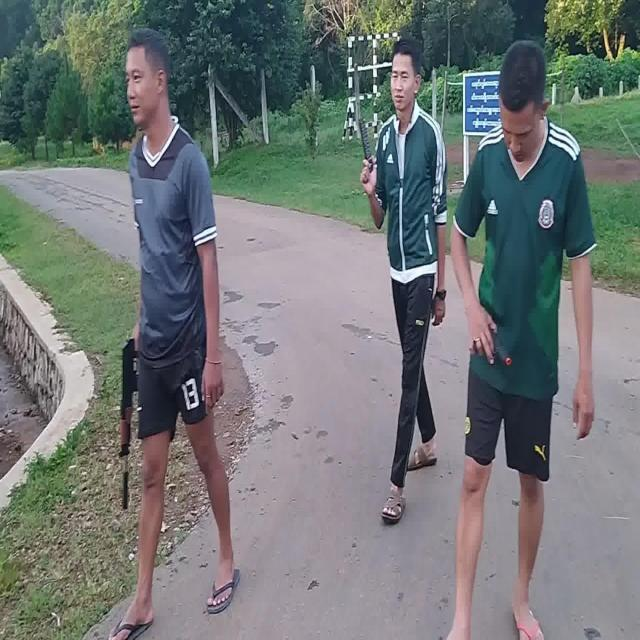gun: (122, 338, 140, 508), (492, 329, 510, 364)
